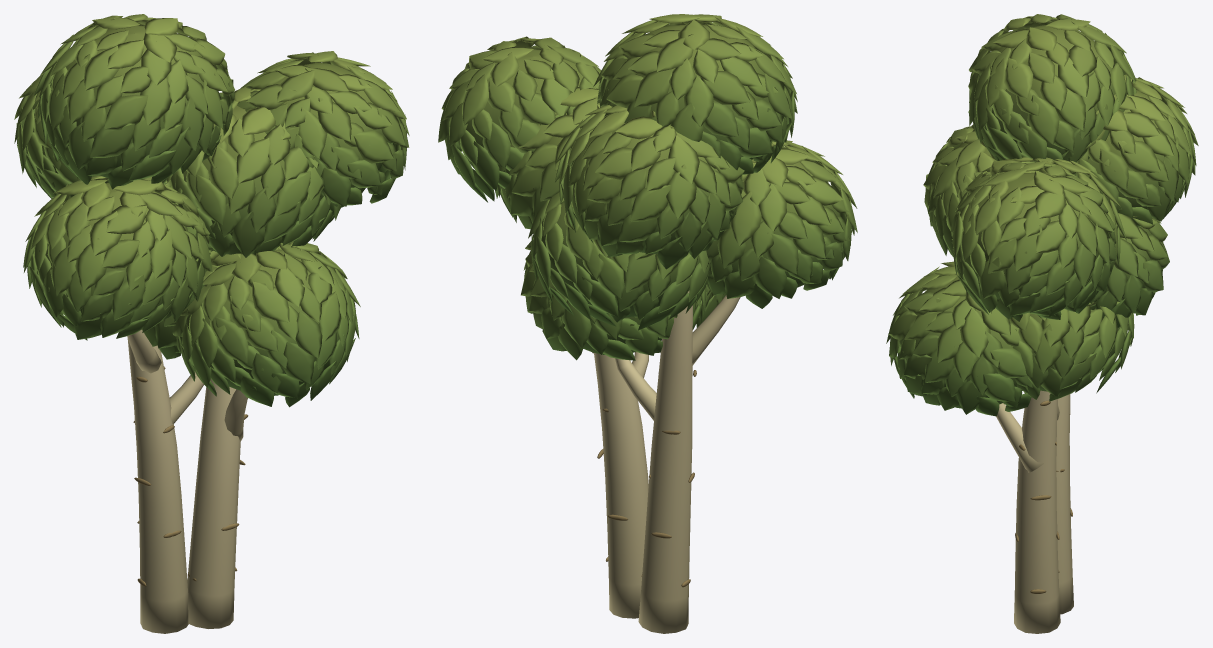
File: silver_birch.glb
3 views of the same model, side by side, from view 1: azimuth 30°, elevation 25°; view 2: azimuth 150°, elevation 25°; view 3: azimuth 270°, elevation 25° (orthographic). The views are drawn at different scales.
Parts seen in each view (by area): view 1: Foliage, Wood; view 2: Foliage, Wood; view 3: Foliage, Wood.
Boxes of the visible parts, bbox=[...] form: Foliage: bbox=[14, 14, 409, 407]; Wood: bbox=[127, 329, 248, 633]; Foliage: bbox=[438, 14, 857, 360]; Wood: bbox=[592, 290, 740, 633]; Foliage: bbox=[886, 14, 1198, 416]; Wood: bbox=[996, 390, 1073, 633].
Bounding box in the file's own units: 3.63 × 5.63 × 2.8.
